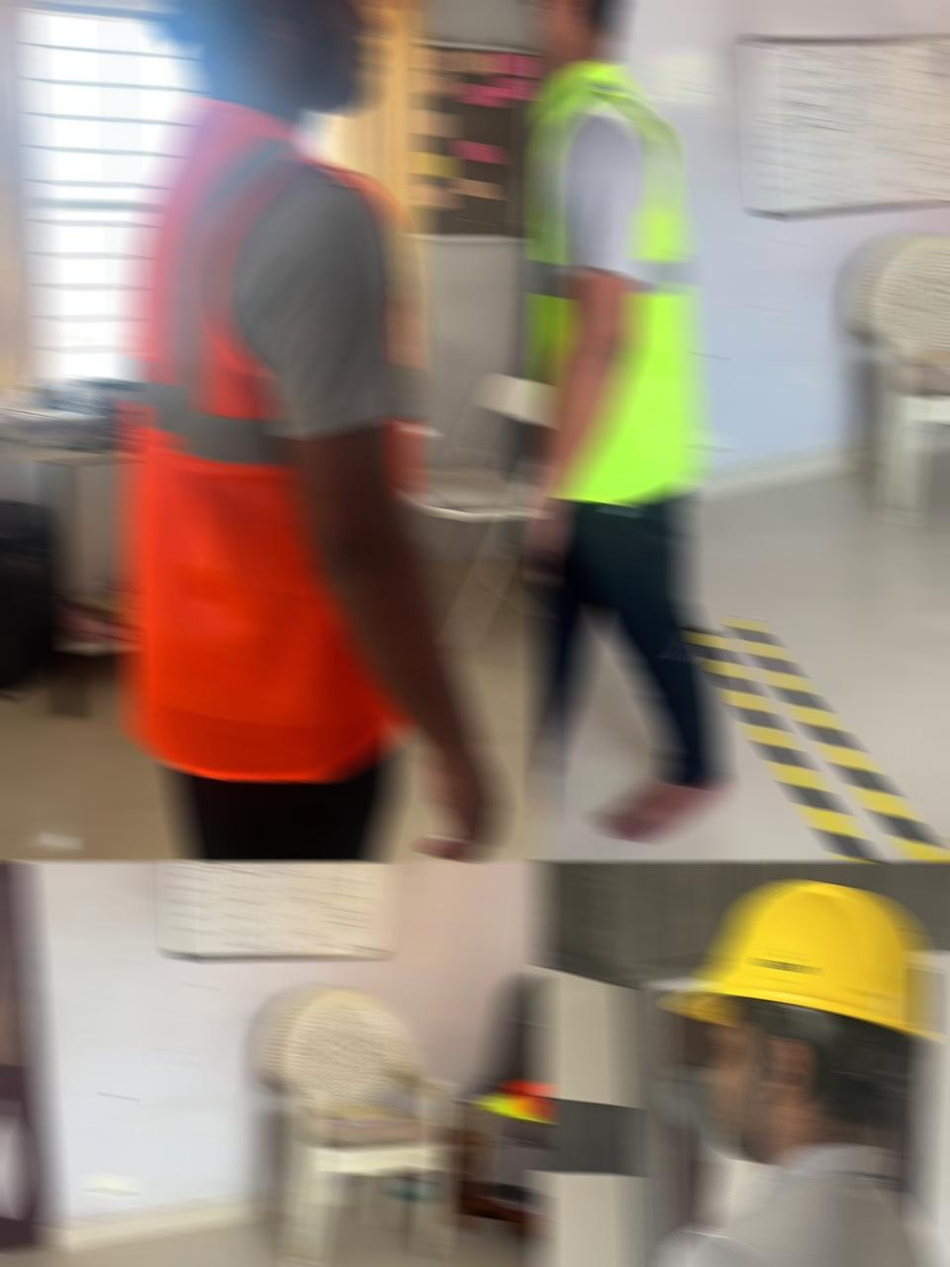BorderLine: (690, 615, 950, 861)
Helmet: (666, 878, 933, 1161), (135, 0, 425, 107)
No_Helmet: (536, 0, 632, 76)
No_Vest: (628, 1143, 948, 1267)
Person: (120, 0, 506, 861), (536, 0, 728, 843), (601, 878, 948, 1267)
Vest: (123, 96, 422, 782), (536, 58, 704, 503)
